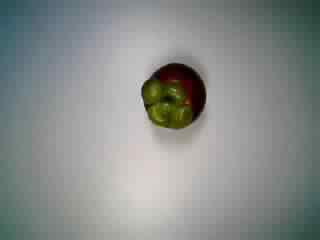mangosteen: (132, 61, 209, 135)
